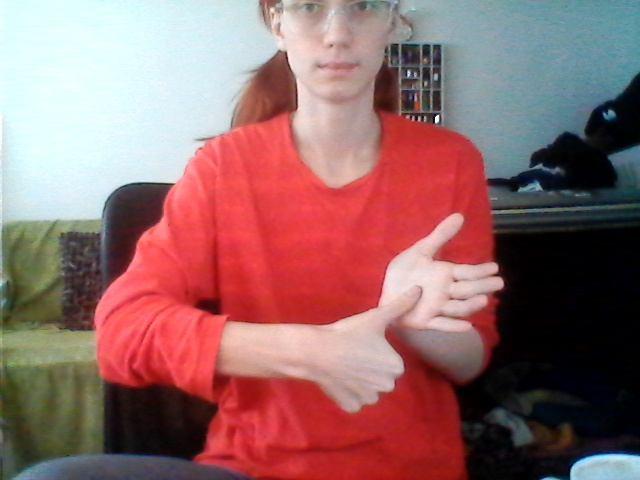pivo: (319, 204, 520, 420)
